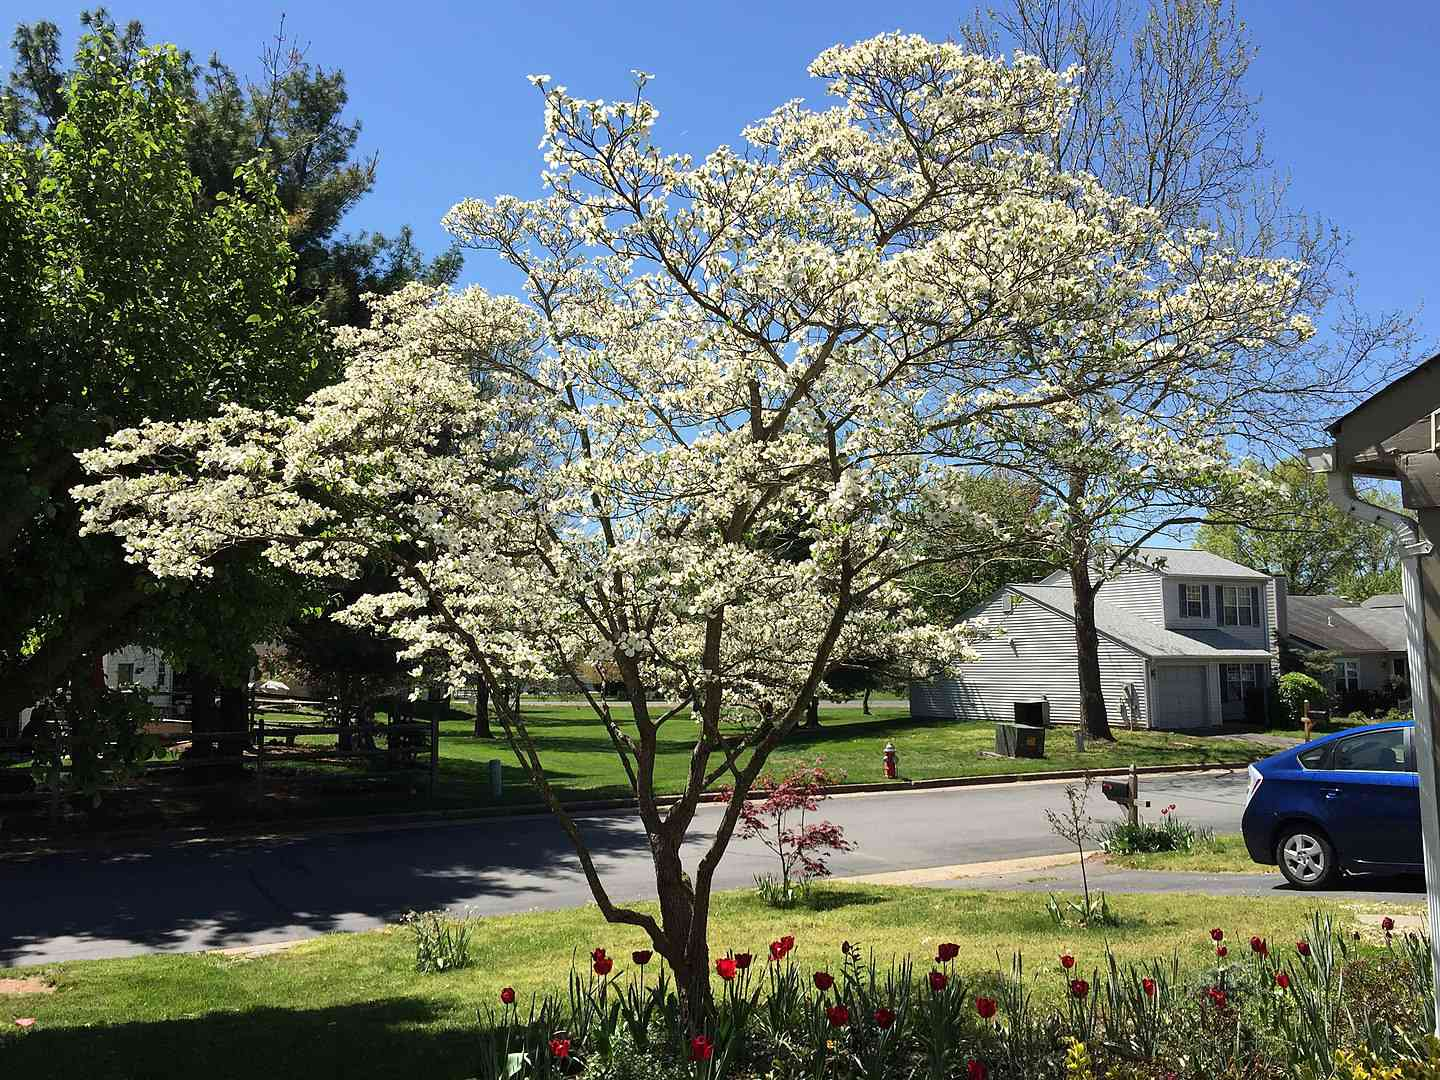tree: (46, 81, 1333, 1039), (891, 9, 1371, 722)
